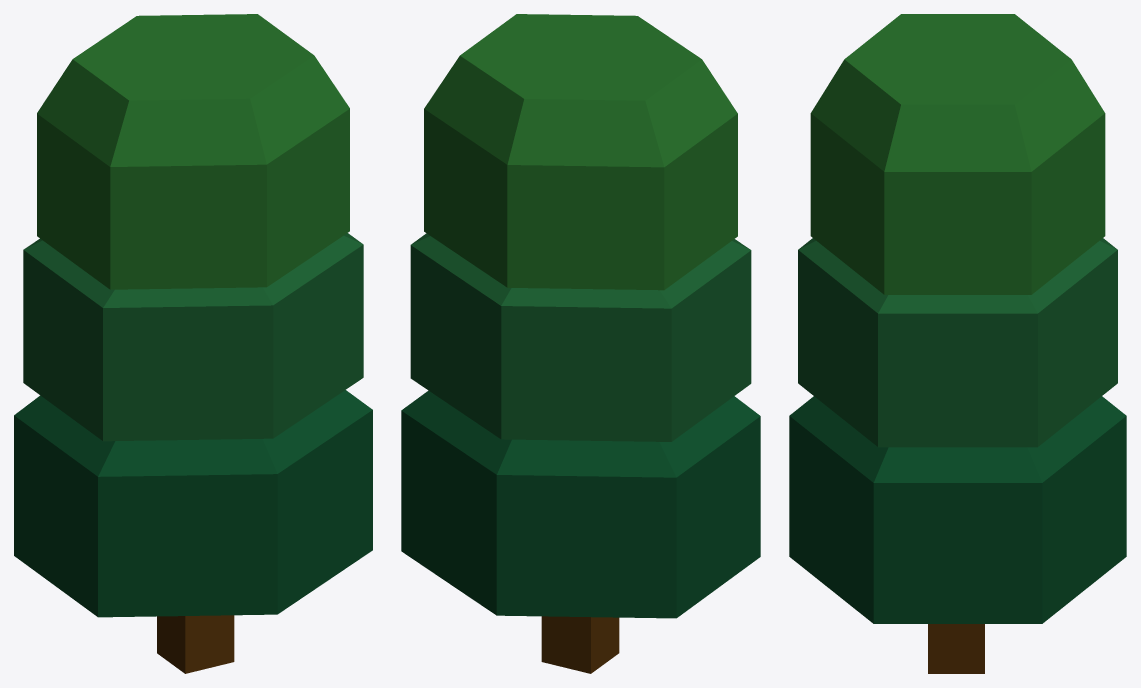
Rendered from tree.glb.
The picture shows the model from 3 angles, left to right: view 1: azimuth 30°, elevation 25°; view 2: azimuth 150°, elevation 25°; view 3: azimuth 270°, elevation 25°; orthographic projection.
Parts seen in each view (by area): view 1: cherrytree; view 2: cherrytree; view 3: cherrytree.
Boxes of the visible parts, box(x1,y1,x2,y2) form: cherrytree: box(14, 14, 372, 673); cherrytree: box(401, 14, 760, 673); cherrytree: box(789, 14, 1126, 673).
Size of the model in its own units: 2.8 by 5.83 by 2.96.
Materials: 1 (1 with a texture image).
